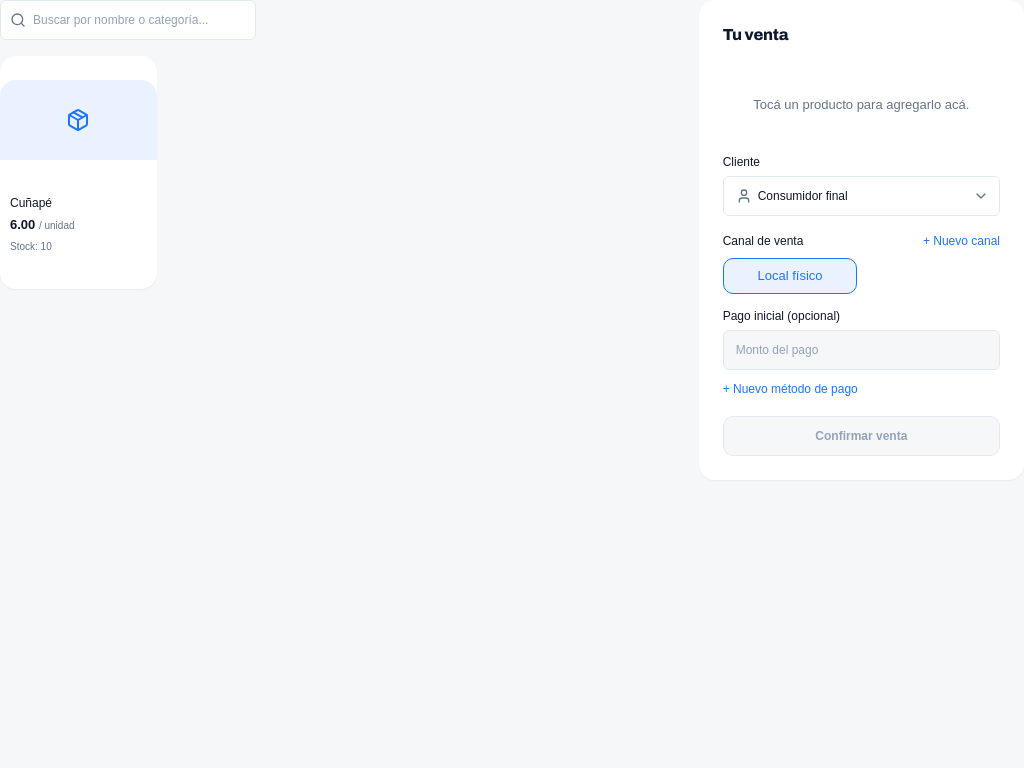
Scenario: Punto de venta — bonificación › solo cortesía: no ofrece el consumo del personal, y un parcial muestra el neto
Click the text "Cuñapé" at (31, 203), box [10,196,52,210]
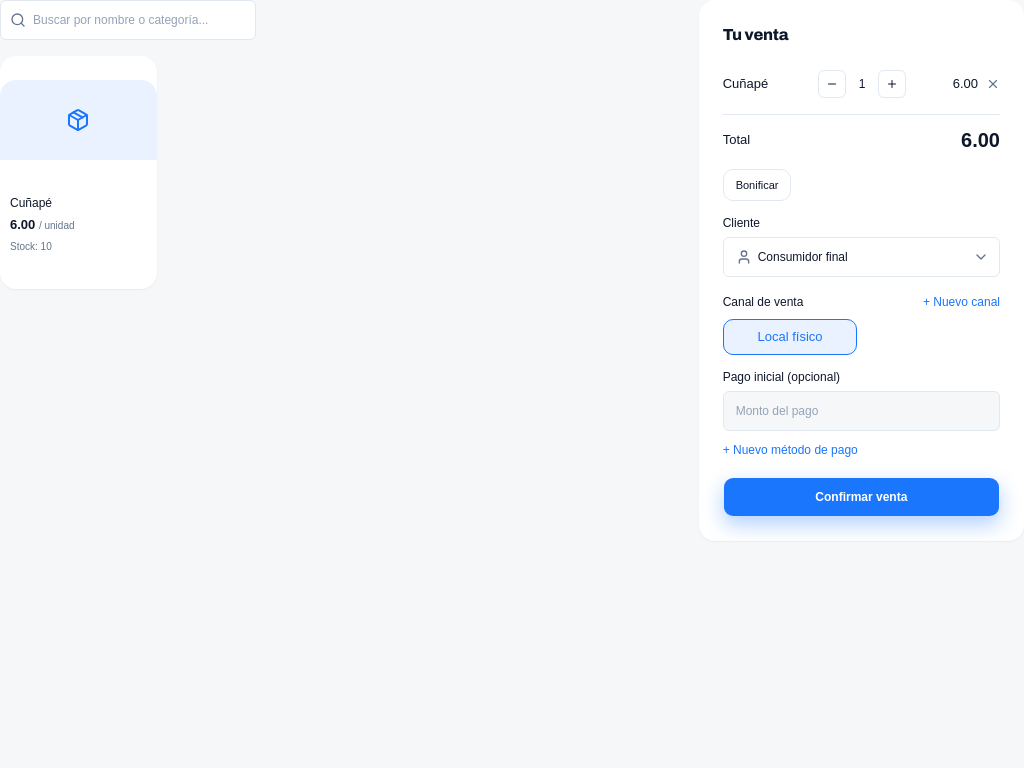
Click the button "Bonificar" at (757, 185), box [723,169,792,201]
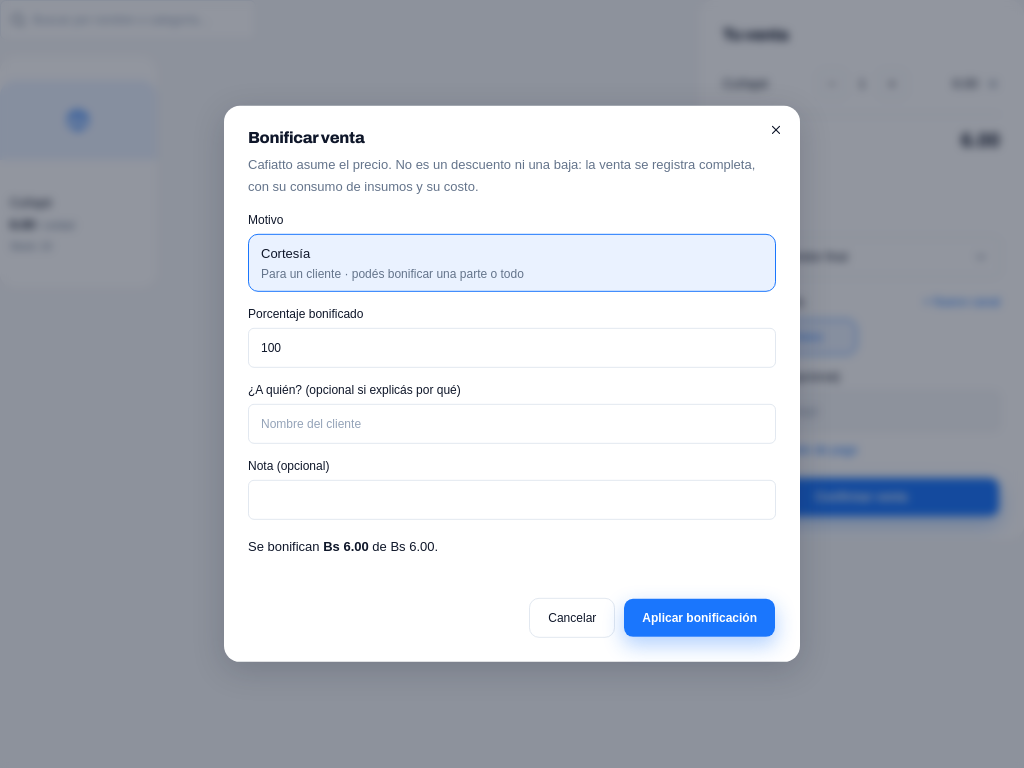
Replace the text in the number field labelled "Porcentaje bonificado" with "50" at (512, 348), box [248,328,776,368]
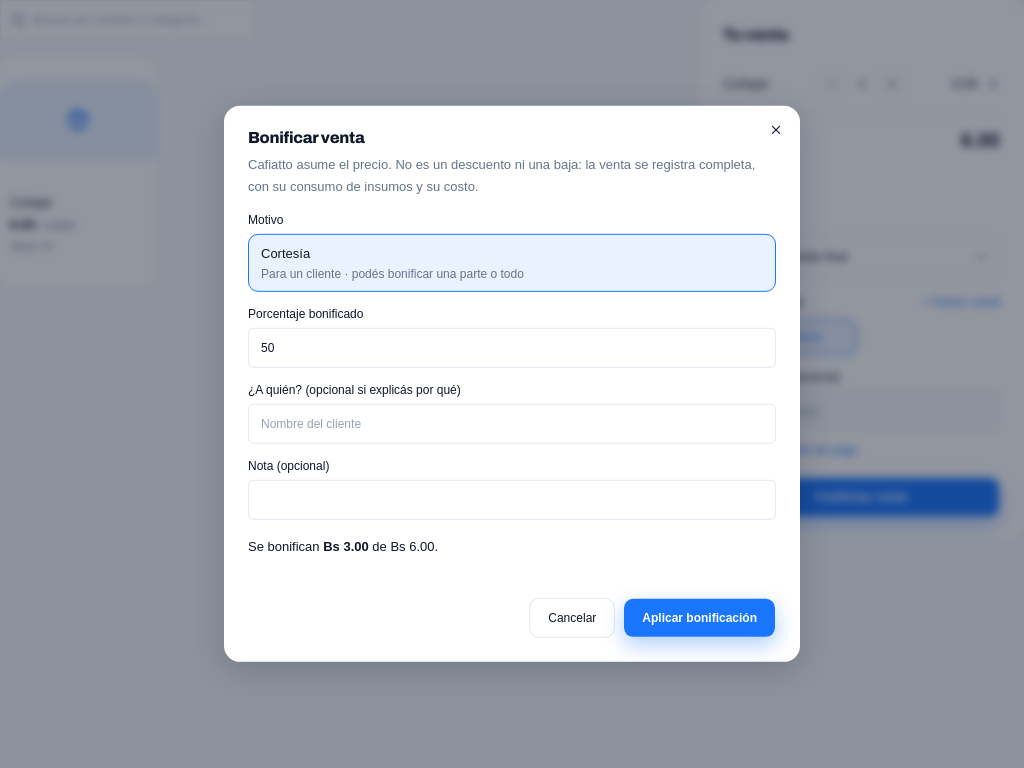
Type "Vecino" into the field labelled "¿A quién? (opcional si explicás por qué)" at (512, 424), box [248,404,776,444]
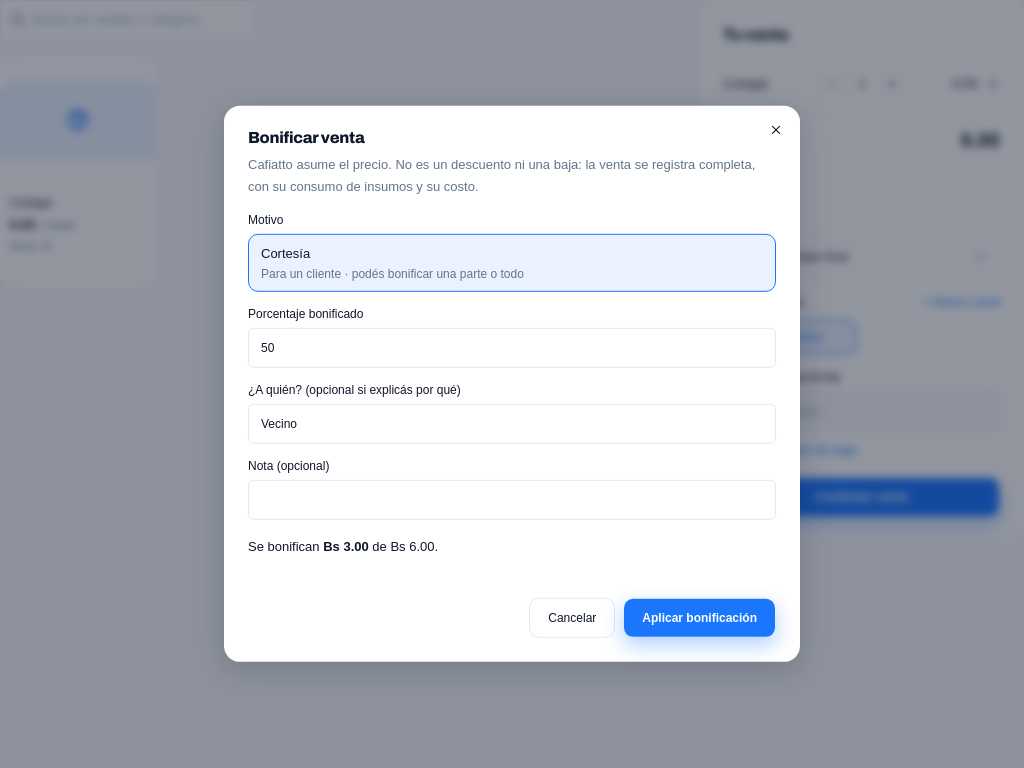
Click the button "Aplicar bonificación" at (700, 618), box [623,598,776,638]
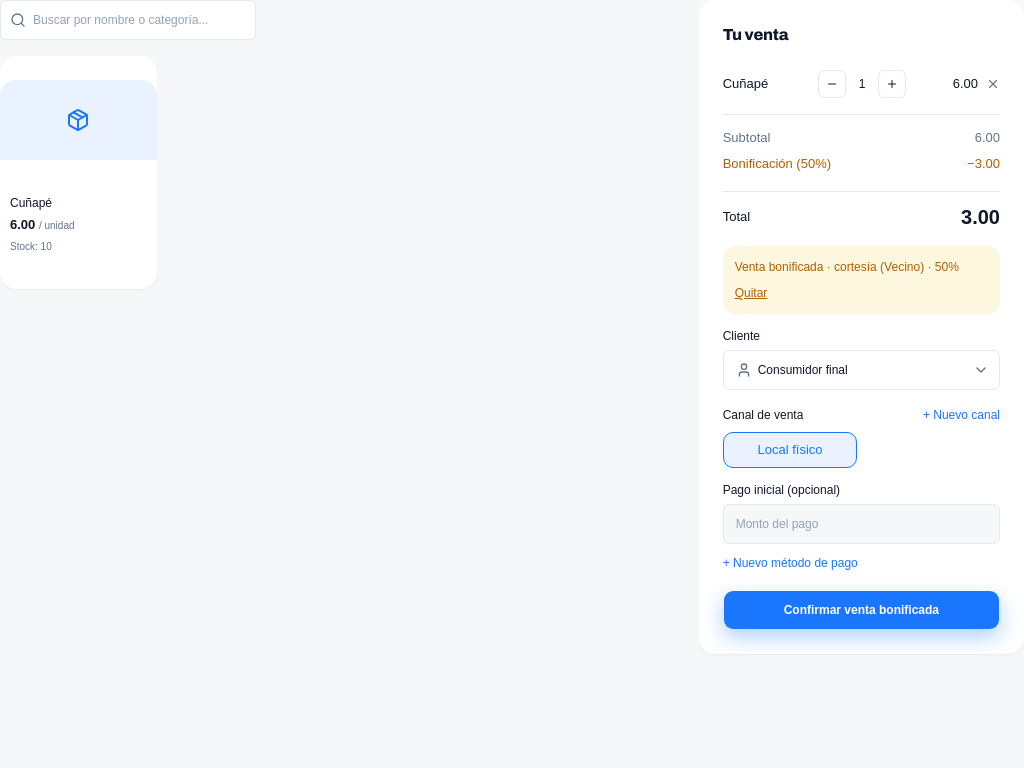
Expected: the number field with placeholder "Monto del pago" is disabled, [723,504,1000,544]
Expected: the text "Bonificación (50%)" is shown, [723,153,831,175]
Expected: the text "−3.00" is shown, [967,153,1000,175]
